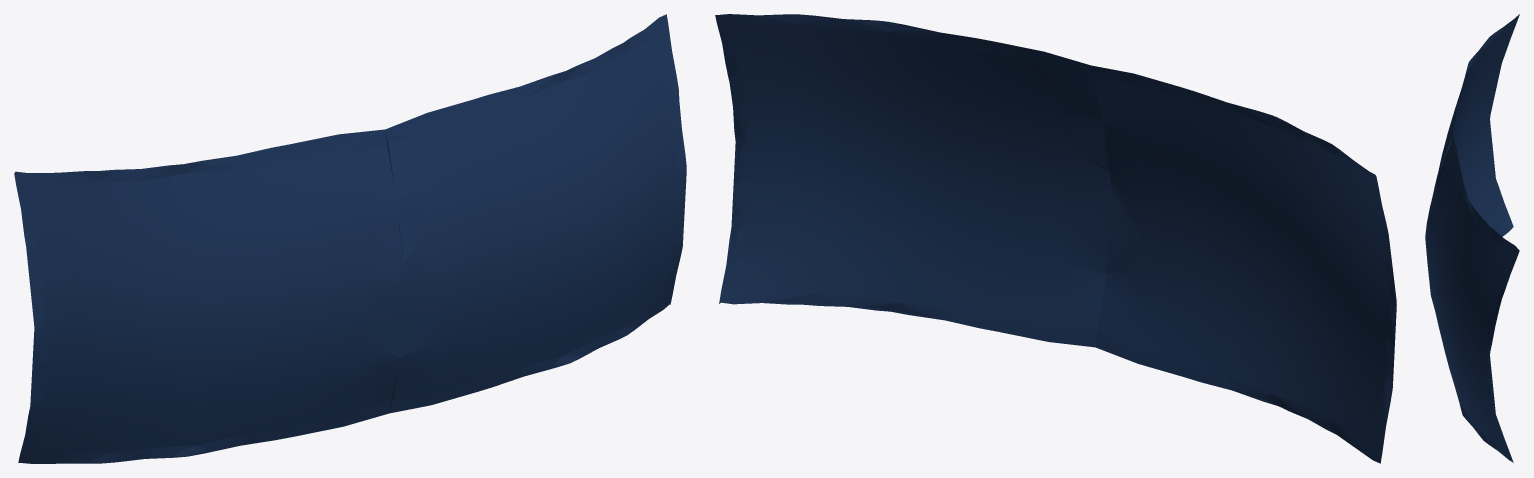
File: GEO_Rear_Bumper.glb
3 renders of one model, left to right at view 1: azimuth 30°, elevation 25°; view 2: azimuth 150°, elevation 25°; view 3: azimuth 270°, elevation 25°, orthographic. The views are drawn at different scales.
Parts seen in each view (by area): view 1: GEO_Rear_Bumper; view 2: GEO_Rear_Bumper; view 3: GEO_Rear_Bumper.
Part boxes in pixels (x1=…): GEO_Rear_Bumper: x1=14, y1=14, x2=686, y2=463; GEO_Rear_Bumper: x1=715, y1=14, x2=1396, y2=463; GEO_Rear_Bumper: x1=1425, y1=14, x2=1519, y2=462.
Bounding box in the file's own units: 1.84 × 0.78 × 0.3118.
